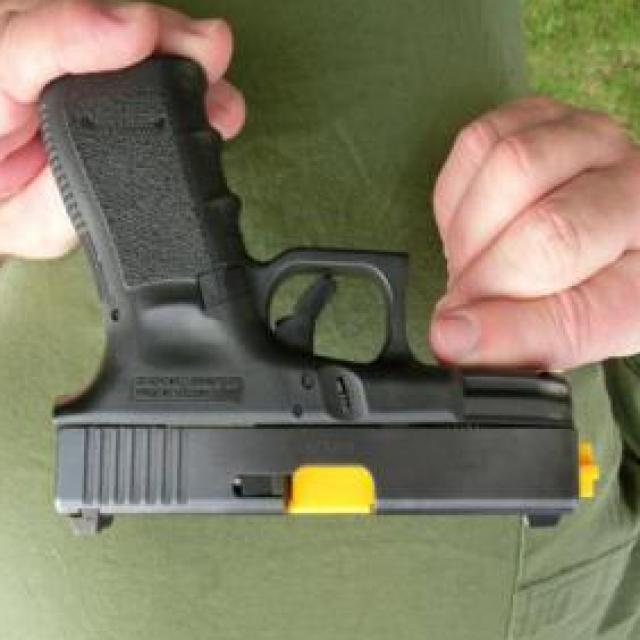pistol: (32, 64, 601, 531)
